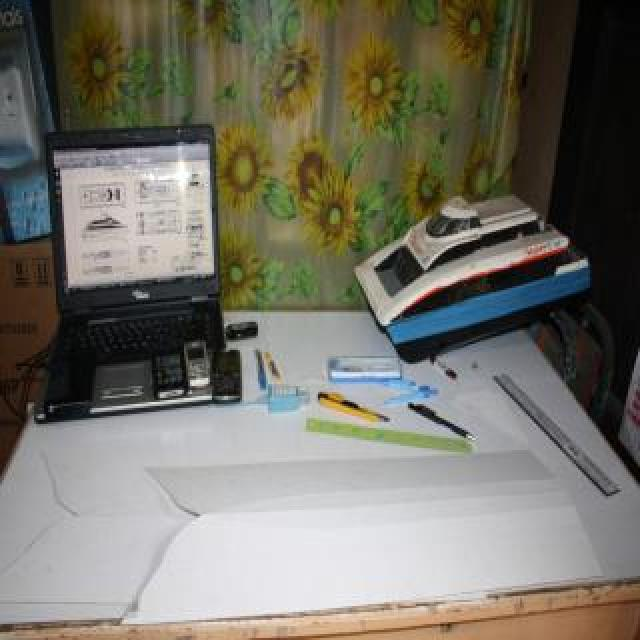laptop_computer: (37, 118, 230, 432)
